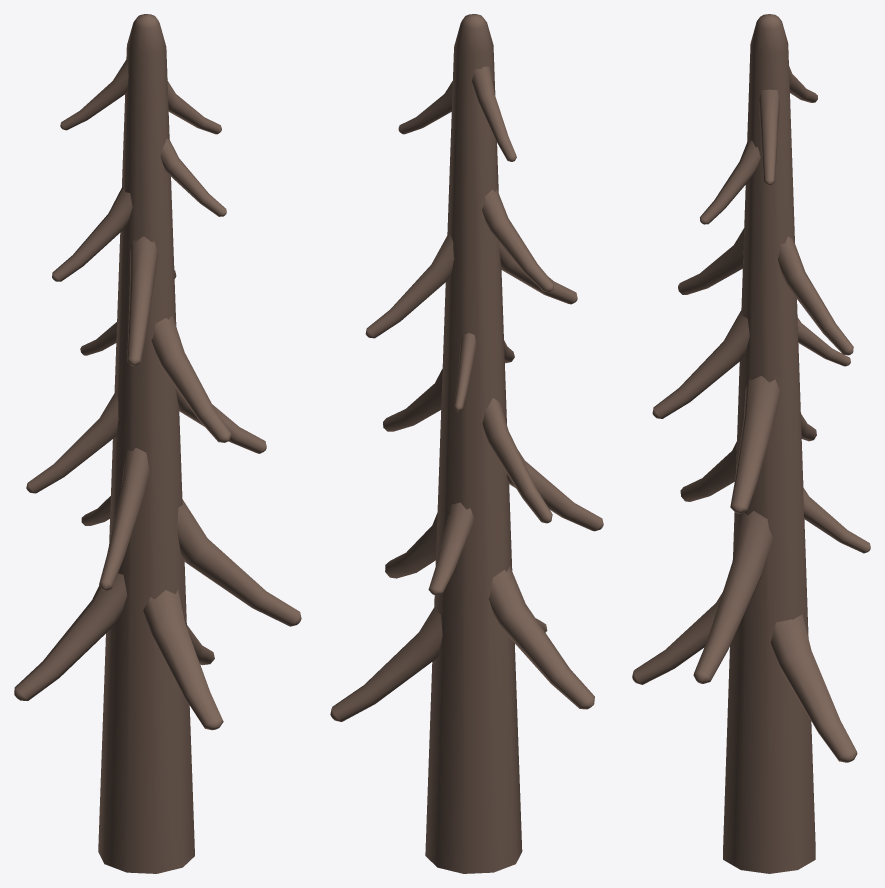
Rendered from coniferous_tree(only_body).fbx.
The picture shows the model from 3 angles, left to right: view 1: azimuth 30°, elevation 25°; view 2: azimuth 150°, elevation 25°; view 3: azimuth 270°, elevation 25°; orthographic projection.
Visible parts, largest first — view 1: tree1; view 2: tree1; view 3: tree1.
Part boxes in pixels (x1,y1,x2,y2): tree1: (14,14,301,873); tree1: (330,14,603,873); tree1: (632,14,870,873).
Size of the model in its own units: 17.93 by 58.5 by 15.09.
